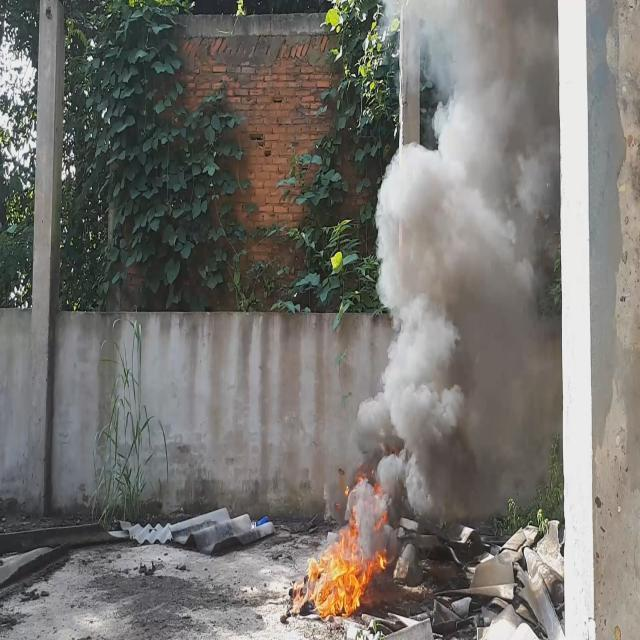Fire: (296, 521, 390, 618)
Smoke: (356, 0, 558, 556)
